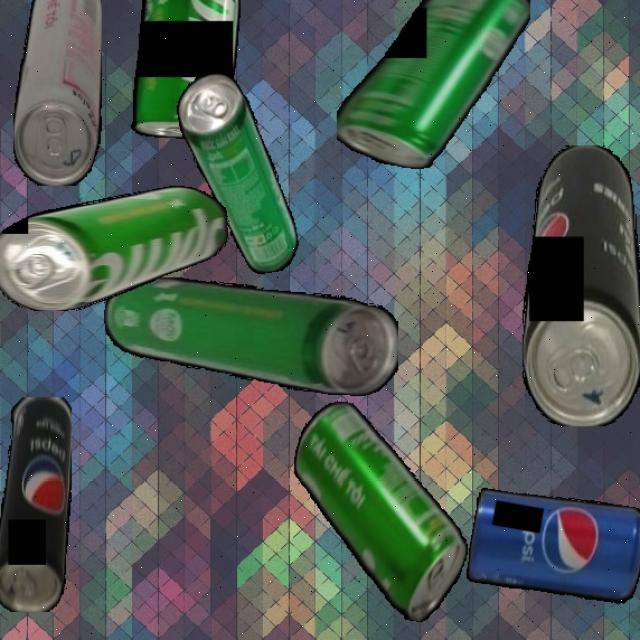debris: (271, 395, 489, 628), (103, 278, 398, 396), (521, 144, 640, 426), (336, 0, 530, 169), (0, 184, 229, 311), (172, 65, 302, 283), (463, 481, 640, 610), (98, 0, 243, 139), (12, 0, 102, 186), (0, 396, 72, 612)
